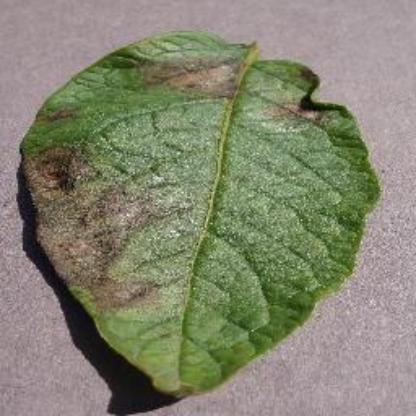Late-Blight: (16, 19, 384, 406)
